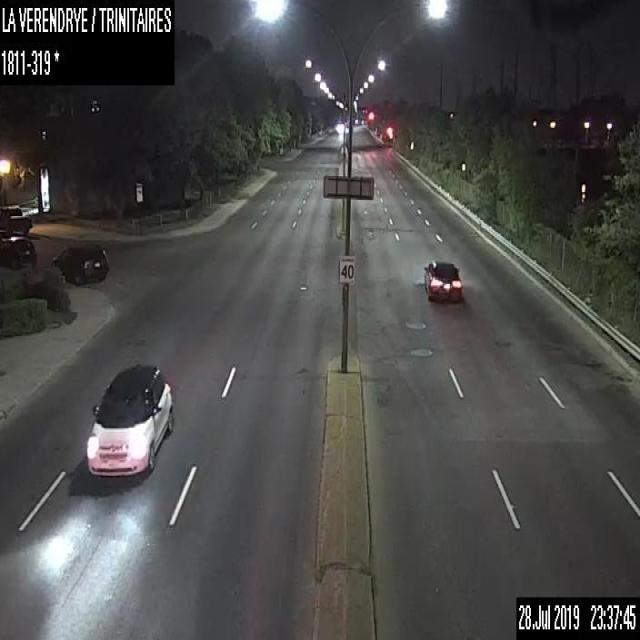vehicle: (86, 360, 174, 475), (50, 238, 110, 286), (423, 260, 462, 302), (0, 234, 35, 270), (0, 202, 33, 235)
